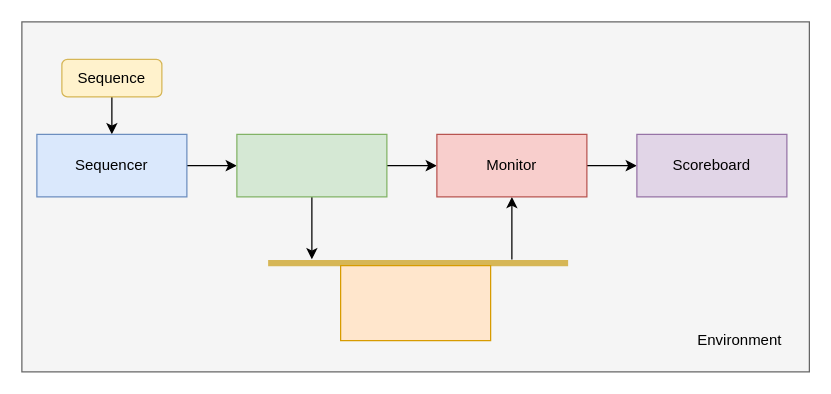
Some shapes in this 831 by 394 pixel diagram are drawn without their labels. Each missing label, with the box of its shape:
Driver: (236, 133, 387, 197)
DUT: (339, 264, 491, 341)
